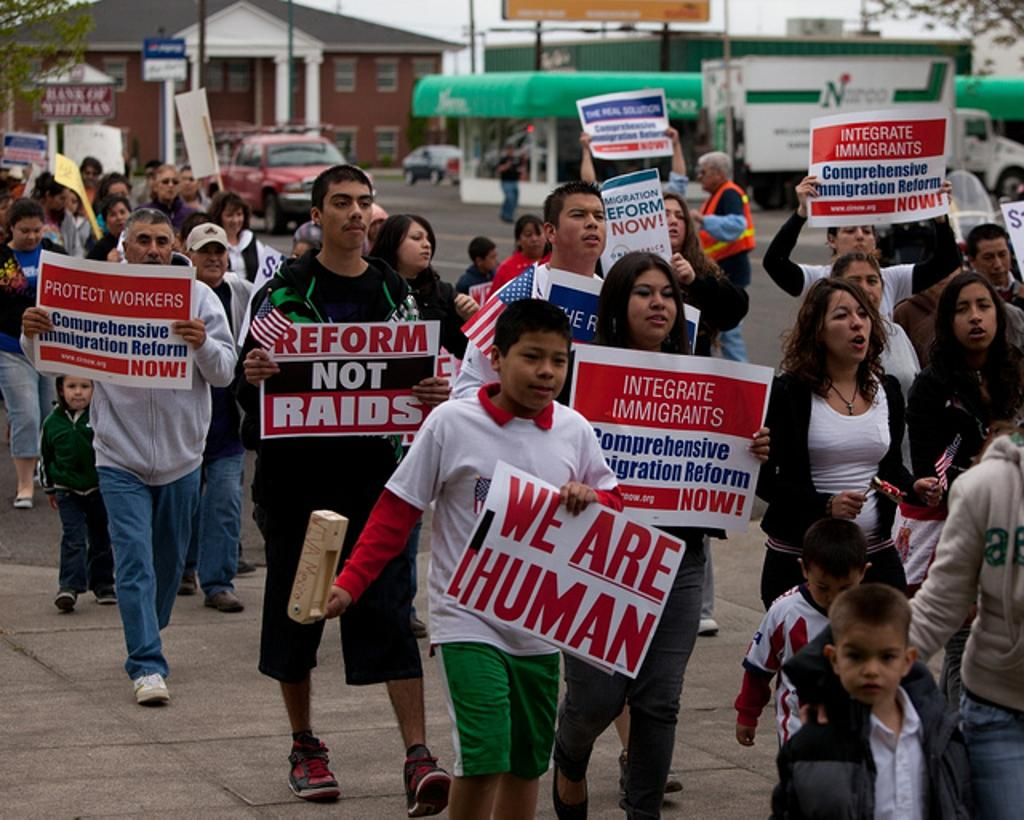face: (837, 625, 904, 702), (503, 331, 568, 407), (824, 288, 869, 362), (558, 191, 606, 257), (629, 268, 675, 335), (323, 185, 371, 248), (955, 282, 998, 347), (807, 564, 859, 607), (126, 220, 171, 267), (842, 261, 881, 311), (974, 237, 1010, 279), (655, 199, 685, 246), (191, 240, 227, 279), (400, 222, 431, 267), (835, 221, 873, 257), (13, 216, 41, 250), (63, 374, 91, 408), (521, 224, 545, 255), (221, 203, 243, 233), (292, 243, 313, 274), (107, 202, 130, 230), (157, 169, 179, 198), (697, 161, 716, 189), (107, 183, 127, 206), (0, 198, 16, 226), (181, 170, 198, 195), (52, 189, 69, 211), (483, 247, 496, 269), (82, 167, 97, 182), (67, 190, 77, 211), (145, 167, 155, 184), (506, 149, 512, 155)
